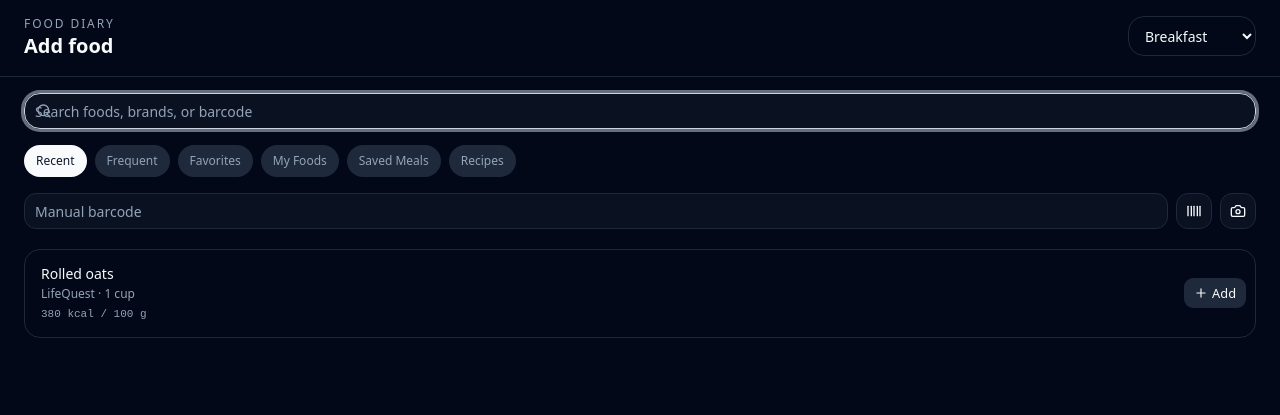
Scenario: FoodSearchPanel › keeps manual search available when barcode input is invalid
Click the button named "Look up barcode" at x=1194, y=211, box [1176, 193, 1212, 229]
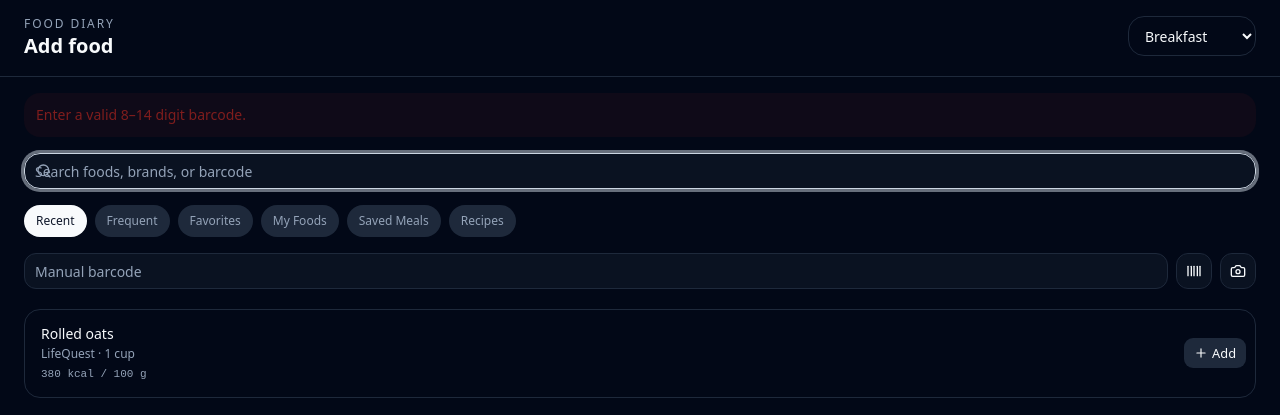
expect the text "Rolled oats" is shown: met, box [41, 324, 114, 344]
expect the message shows "valid 8–14 digit barcode": met, box [36, 105, 246, 124]
